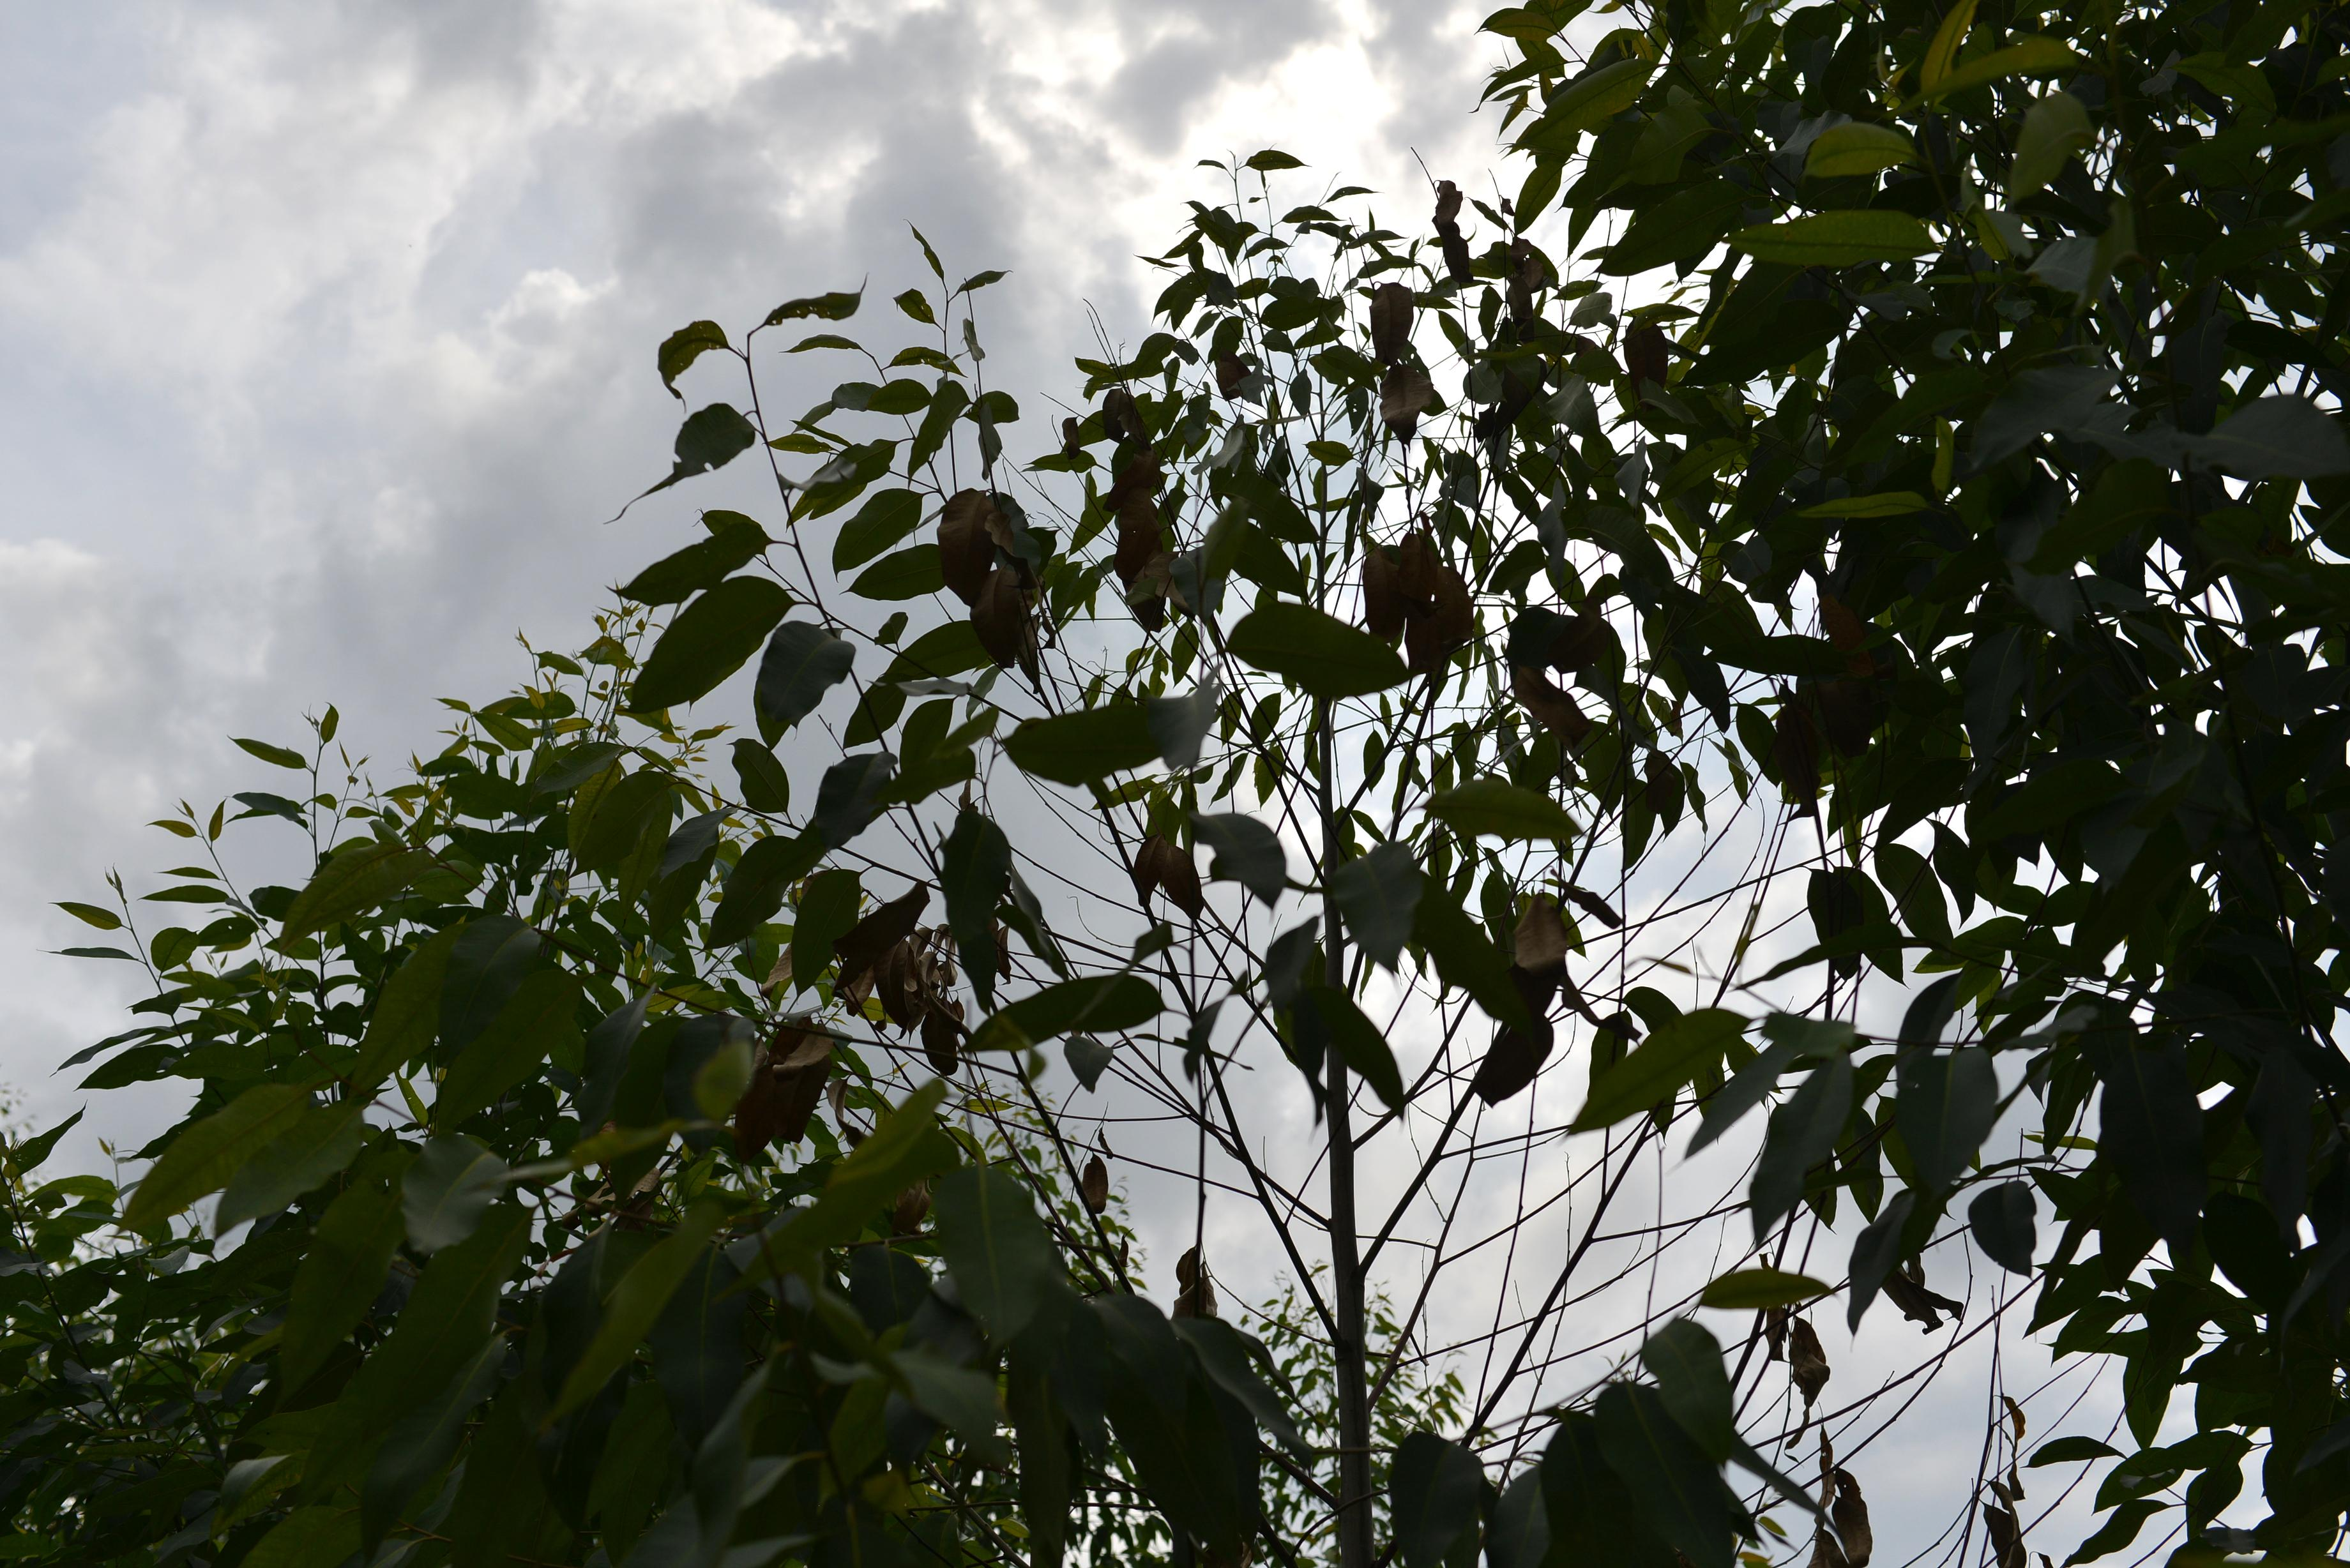Wither Tree Parts: (1351, 528, 1514, 693), (863, 926, 1017, 1088), (723, 969, 843, 1165), (964, 483, 1073, 695), (1486, 896, 1606, 1010), (1386, 303, 1437, 471)
